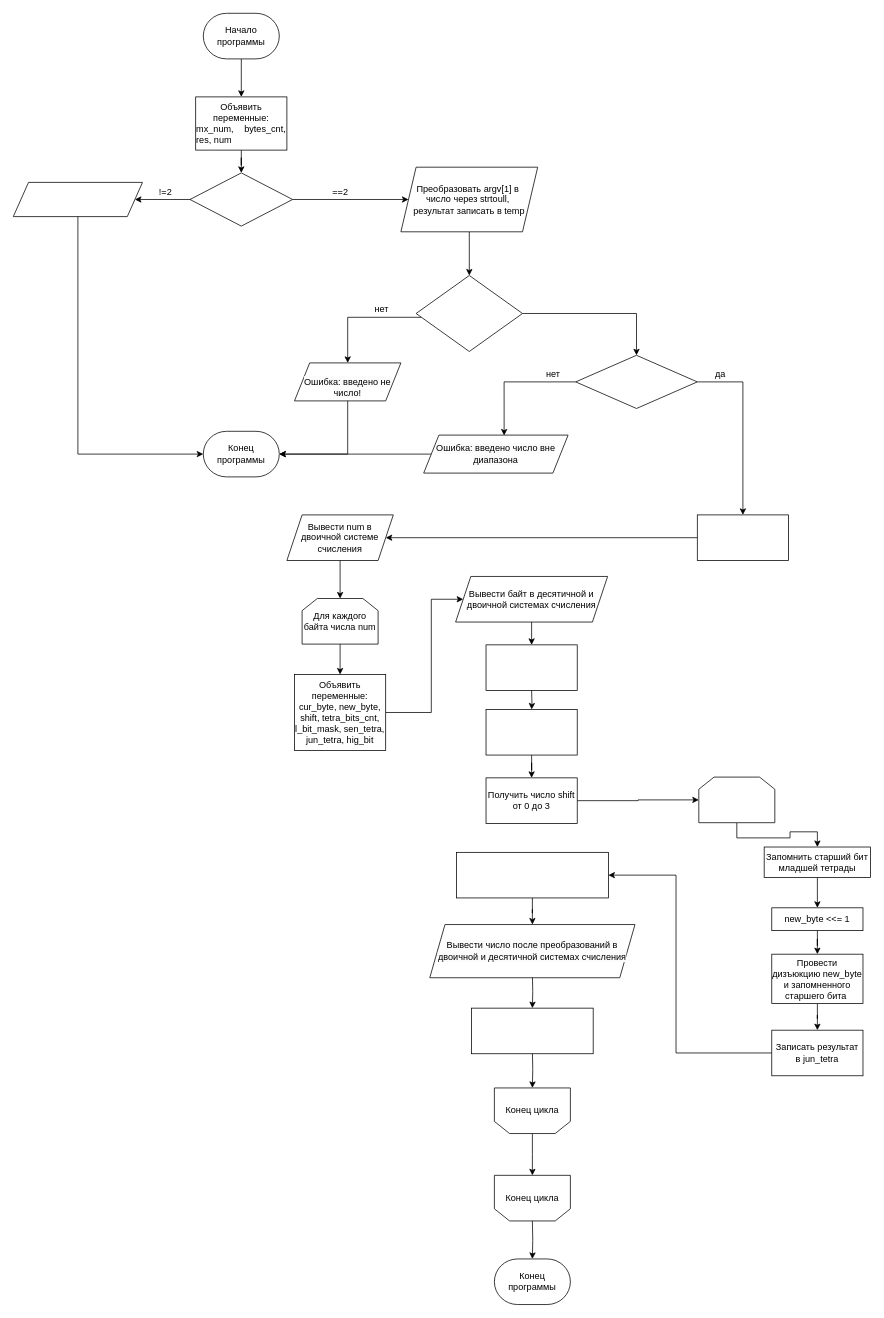
Some shapes in this 884 by 1318 pixel diagram are drawn without their labels. The centre of each missing label's shape, as x and y in pixels:
"0 <= temp <= mx_num?" goes at pixel 636 381.
"argc?" goes at pixel 241 199.
"new_byte = sen_tetra | jun_tetra" goes at pixel 532 875.
"num = temp" goes at pixel 742 537.
"Для числа от 0 до shift" goes at pixel 736 799.
"Запомнить два старших бита в байте" goes at pixel 531 667.
"Запомнить старшую тетраду в sen_tetra" goes at pixel 531 732.
"Новый байт записать в res на позицию, на которой он был до преобразований" goes at pixel 532 1030.
"Ошибка: нет числа для обработки" goes at pixel 77 199.
"Смогли обработать argv[1]?" goes at pixel 468 313.
